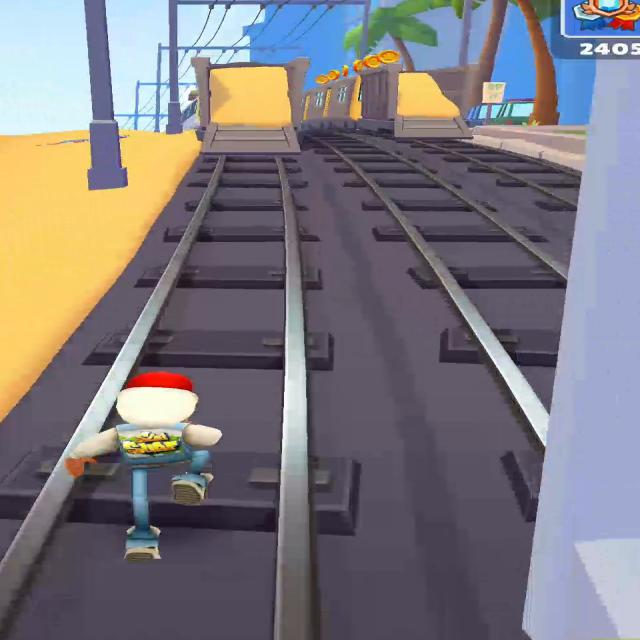block pillar: (523, 59, 639, 640)
climber: (191, 58, 309, 152), (393, 72, 472, 139)
train: (300, 63, 402, 131)
